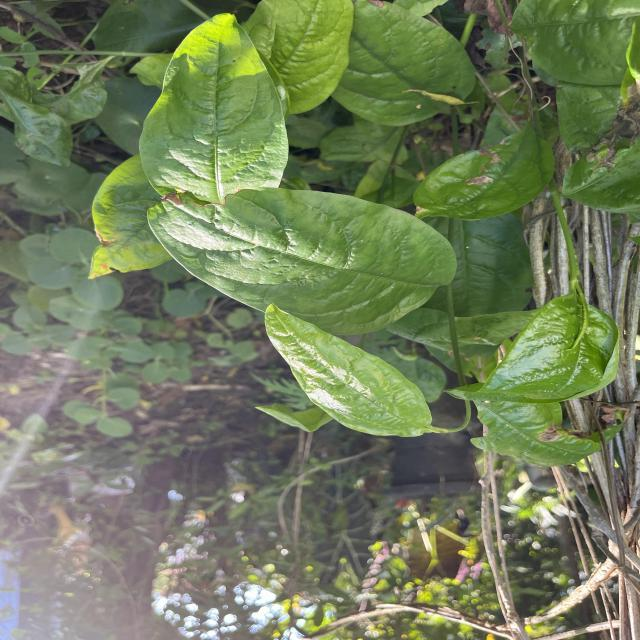Plumbago indica: (136, 181, 458, 341), (133, 8, 292, 205), (260, 302, 434, 443), (441, 289, 623, 412), (248, 0, 360, 119)
